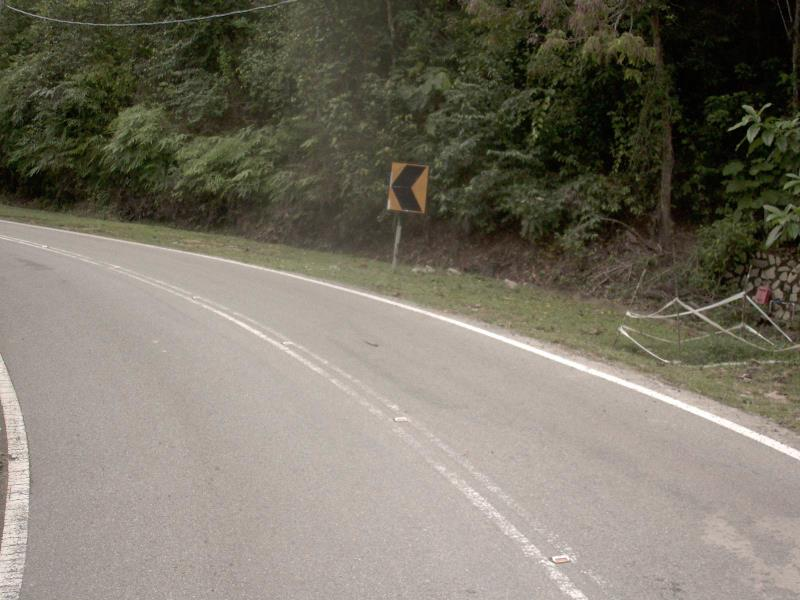traffic_sign: (377, 151, 437, 225)
